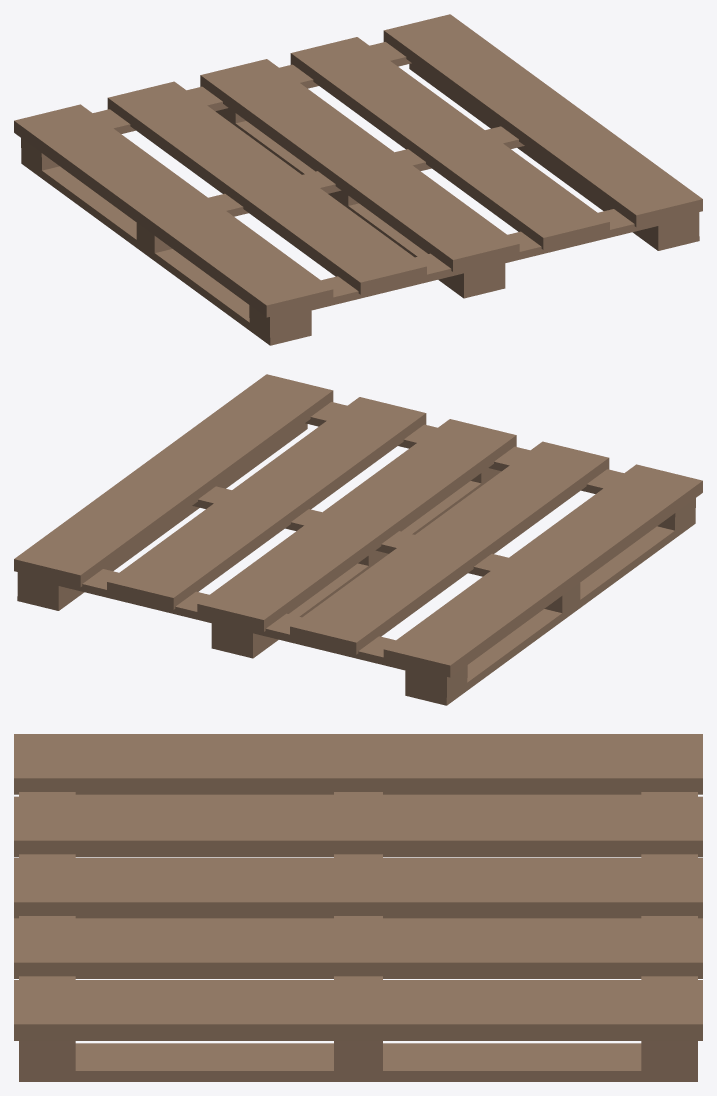
File: Epal.fbx
3 renders of one model, top to bottom at view 1: azimuth 30°, elevation 25°; view 2: azimuth 150°, elevation 25°; view 3: azimuth 270°, elevation 25°, orthographic. The views are drawn at different scales.
Visible parts, largest first — view 1: Epal; view 2: Epal; view 3: Epal.
Part boxes in pixels (x1,y1,x2,y2): Epal: [14, 14, 702, 345]; Epal: [14, 374, 702, 705]; Epal: [14, 734, 702, 1081].
Size of the model in its own units: 2.02 by 2.03 by 0.1904.
